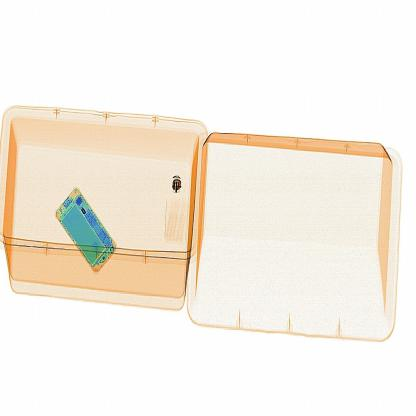wrench: (163, 163, 185, 196)
